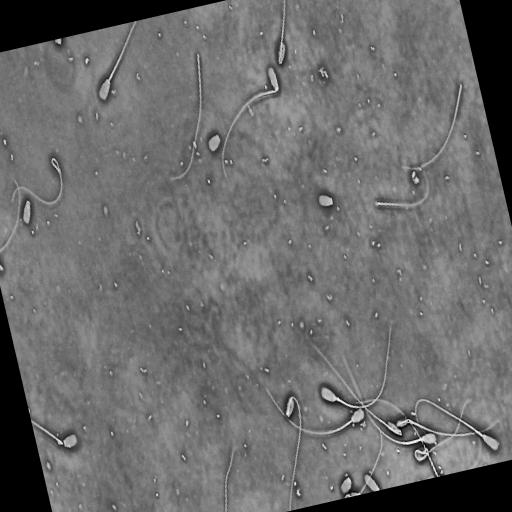dirt-particles: (410, 168, 421, 186)
folded-tail: (316, 346, 403, 435), (222, 89, 278, 178), (408, 417, 499, 436), (288, 396, 301, 509), (279, 0, 286, 63)
loose-head: (339, 473, 353, 497), (21, 197, 32, 227), (207, 132, 222, 153), (316, 192, 334, 208)
loose-tail: (353, 396, 440, 477), (399, 79, 465, 174), (167, 48, 205, 186), (395, 413, 501, 440), (374, 171, 432, 211), (0, 176, 22, 254), (223, 443, 235, 512)
normal: (340, 350, 439, 448), (313, 343, 404, 439), (221, 57, 283, 186), (259, 376, 366, 440), (320, 321, 393, 412), (412, 391, 502, 454), (413, 395, 475, 462), (97, 22, 138, 105), (414, 401, 468, 461), (10, 154, 65, 207), (284, 392, 303, 510), (276, 0, 287, 66), (416, 452, 427, 459)
proximal-droplet: (336, 396, 340, 402)
